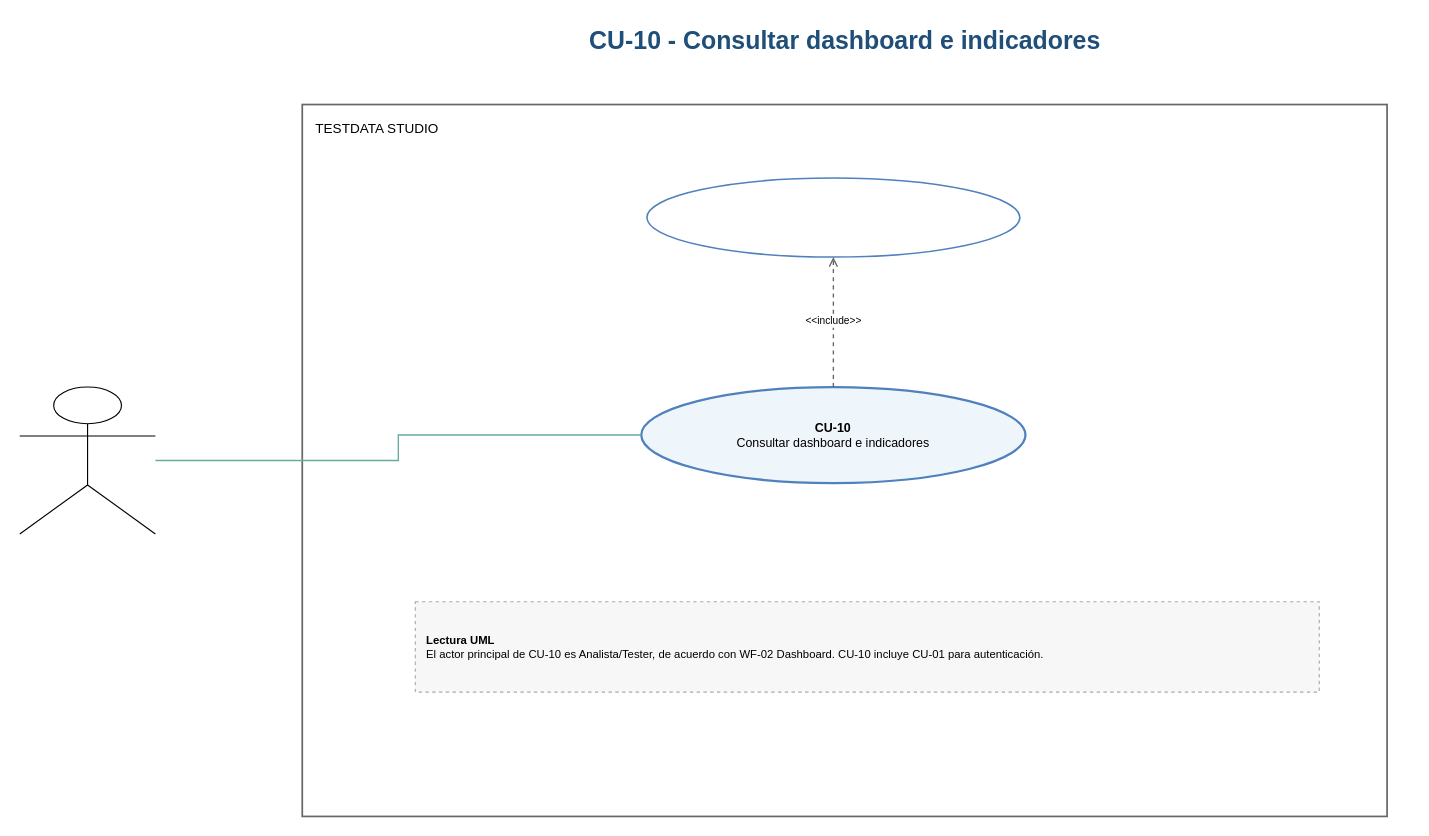
The diagram is 1429 pixels wide and 836 high, and some of its shapes have lost their labels. Each missing label, with the box of its shape:
Analista/Tester: (19, 386, 155, 534)
CU-01 Iniciar sesión: (646, 177, 1020, 257)
